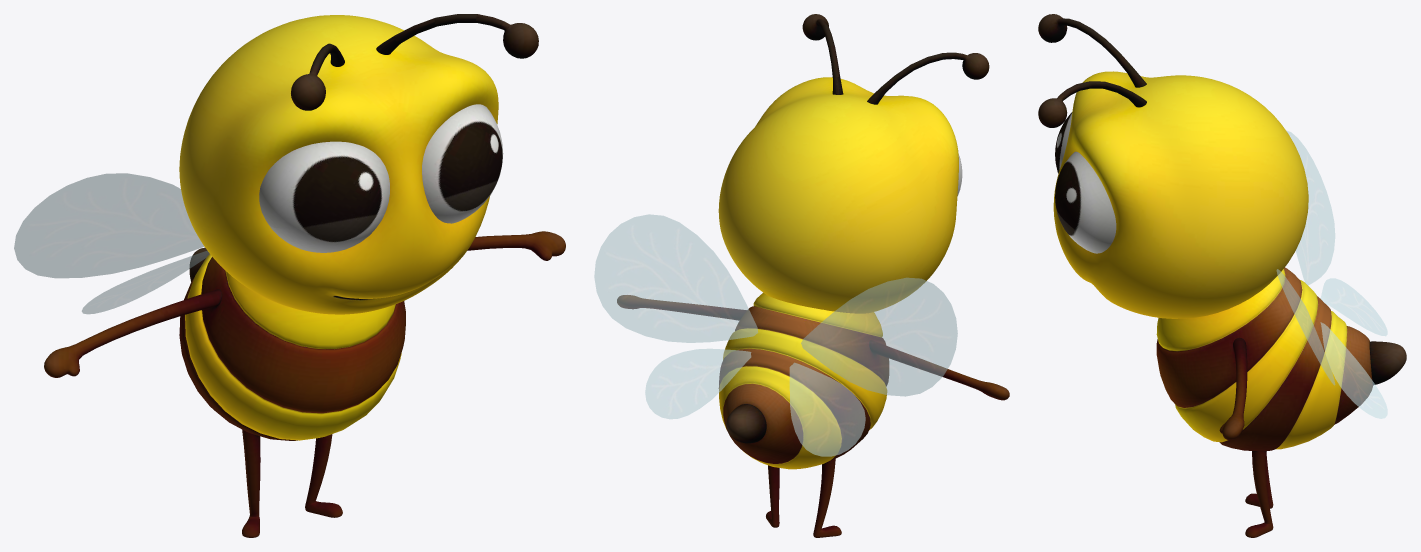
Rendered from bee.gltf.
3 views of the same model, side by side, from view 1: azimuth 30°, elevation 25°; view 2: azimuth 150°, elevation 25°; view 3: azimuth 270°, elevation 25° (orthographic). The views are drawn at different scales.
Visible parts, largest first — view 1: Bee_Material #25_0, Bee_Eye_0, Bee_Wing_0; view 2: Bee_Material #25_0, Bee_Wing_0; view 3: Bee_Material #25_0, Bee_Wing_0, Bee_Eye_0.
Part boxes in pixels (x1,y1,x2,y2): Bee_Material #25_0: (44, 14, 565, 537); Bee_Eye_0: (259, 104, 503, 252); Bee_Wing_0: (14, 173, 209, 314); Bee_Material #25_0: (617, 14, 1009, 537); Bee_Wing_0: (594, 214, 957, 456); Bee_Material #25_0: (1038, 14, 1406, 537); Bee_Wing_0: (1276, 130, 1387, 418); Bee_Eye_0: (1055, 112, 1116, 253).
Bounding box in the file's own units: 71.62 × 75.05 × 53.84.
Materials: 3 (3 with a texture image).
